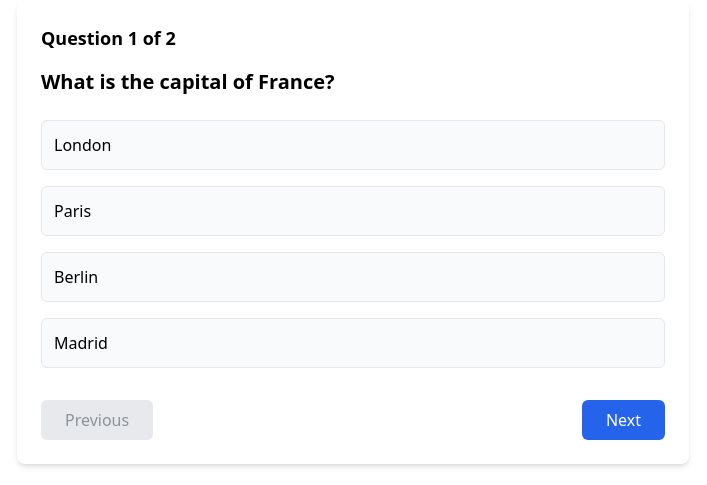
it: QuizView › navigates to the previous question
Click the button with test id "next-button".
click(623, 420)  # box x1=582 y1=400 x2=665 y2=440
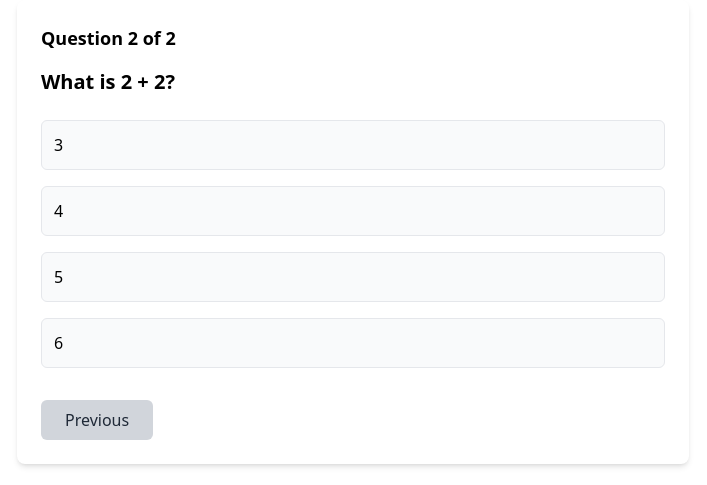
Click the button with test id "previous-button".
click(97, 420)  # box x1=41 y1=400 x2=153 y2=440
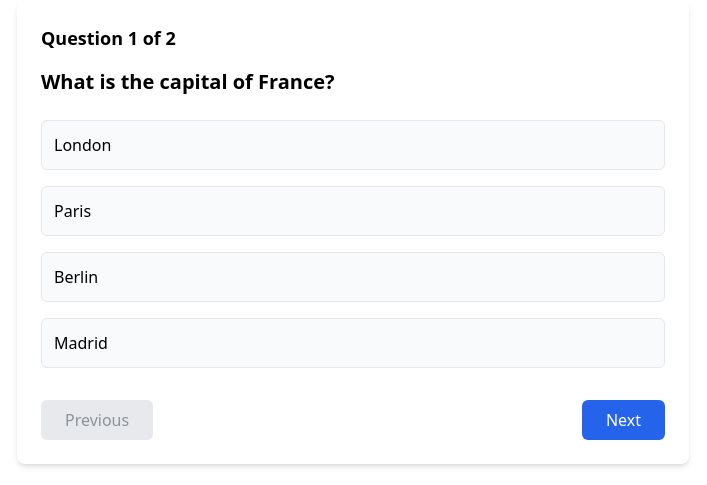
Check: the text "Question 1 of 2" is shown, box x1=41 y1=26 x2=176 y2=50
Check: the heading "What is the capital of France?" is shown, box x1=41 y1=68 x2=334 y2=95
